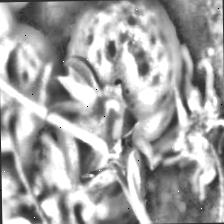Gray Mold: (148, 44, 224, 200)
